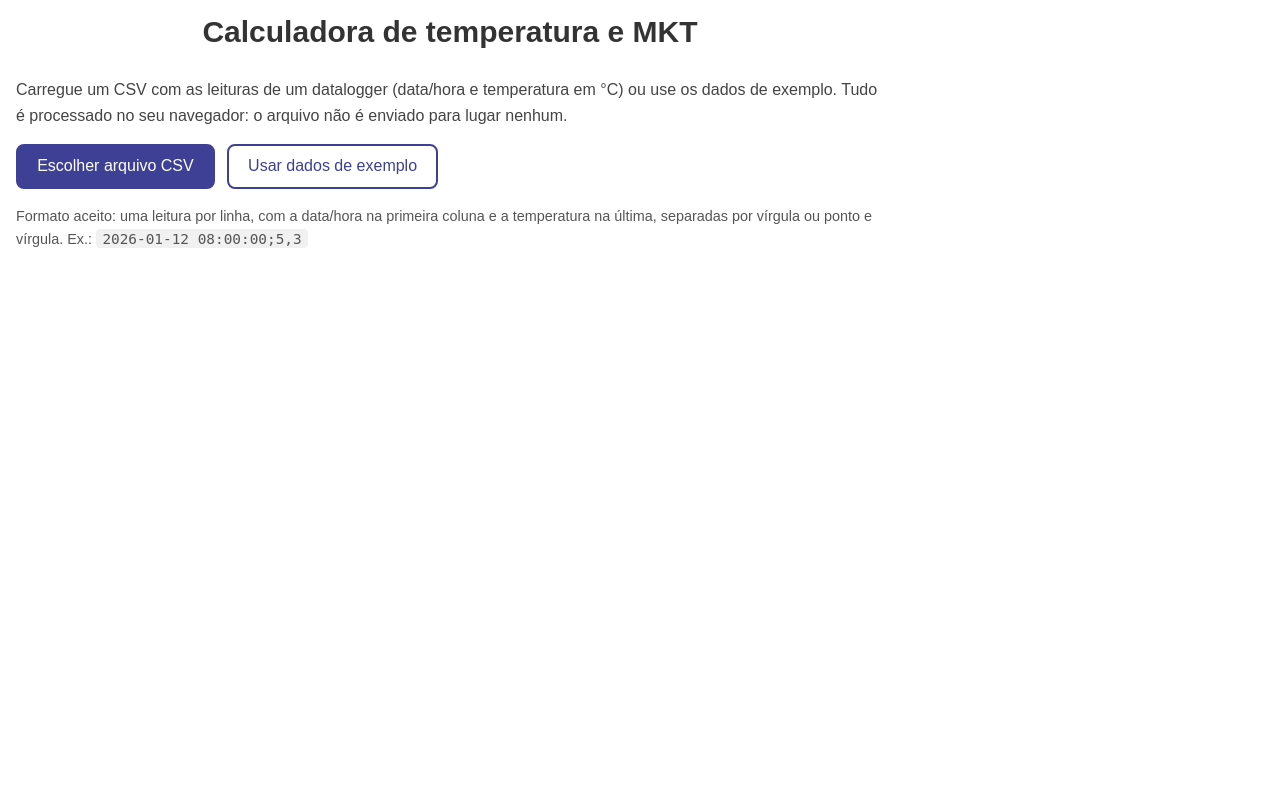
Calculadora › dados de exemplo mostram os resultados e desenham o gráfico
Click the button "Usar dados de exemplo" at [333, 166], box [227,144,438,189]
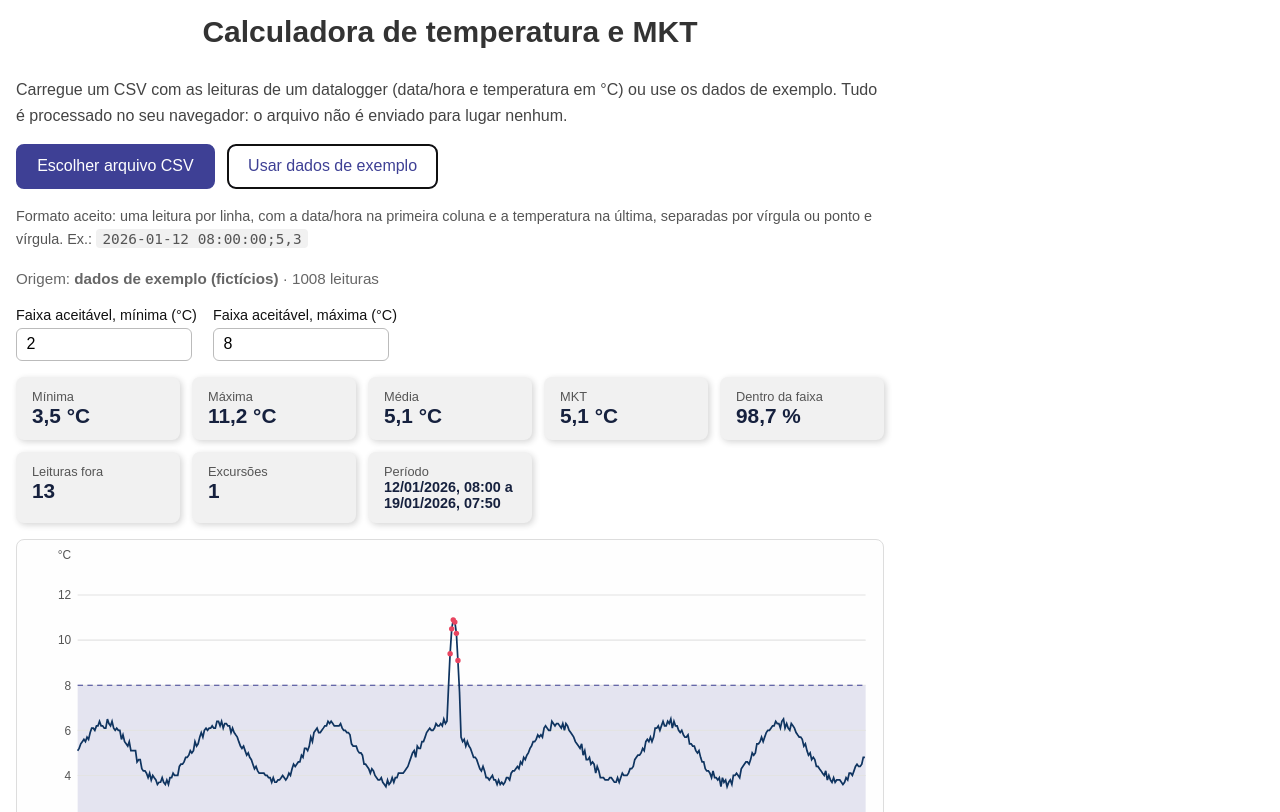
Check: the text "Origem: dados de exemplo (fictícios) · 1008 leituras" is shown, box [16,270,379,287]
Check: the 1st text "5,1 °C" is shown, box [384,404,442,426]
